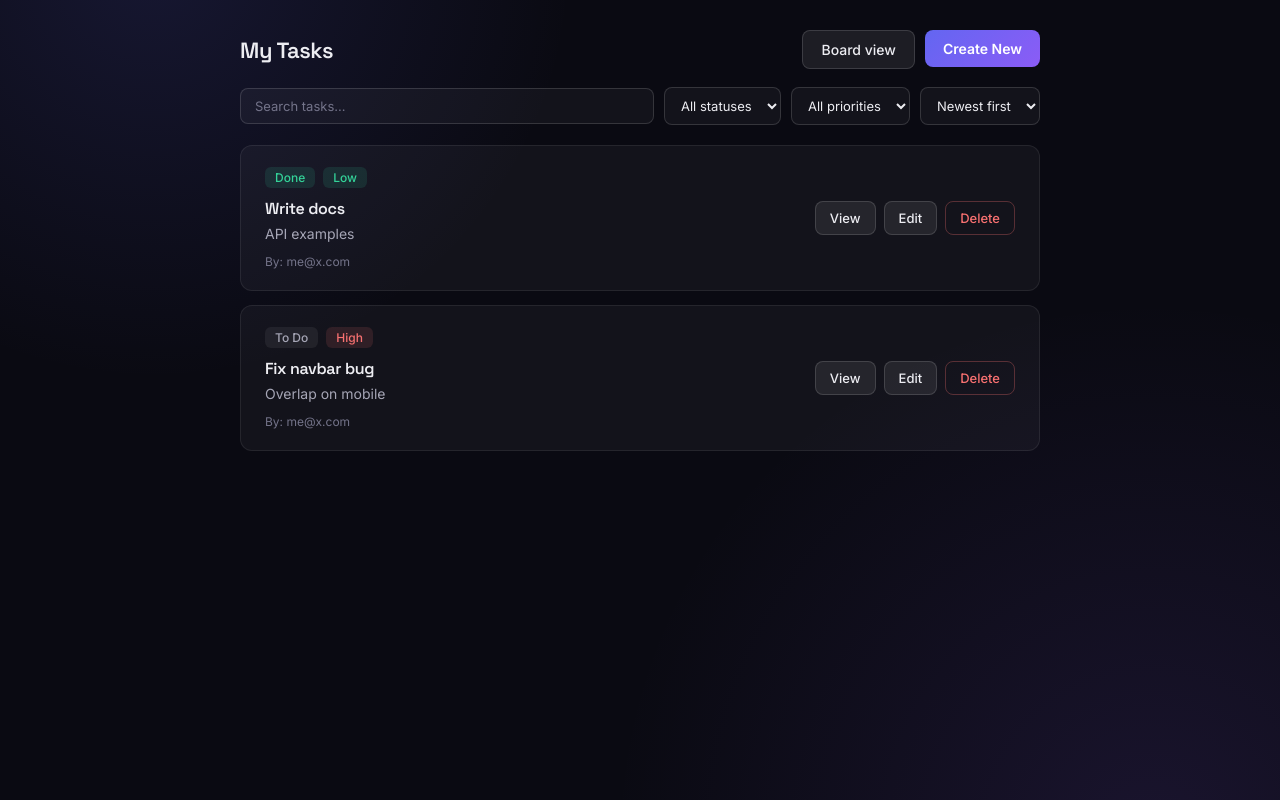
Test: AllItems › tells the user when no task matches the filters
Check: the heading "Fix navbar bug" is shown, box [265,358,386,379]
Type "zzz-no-match" into the field with placeholder "Search tasks..." at (447, 106), box [240,88,654,124]
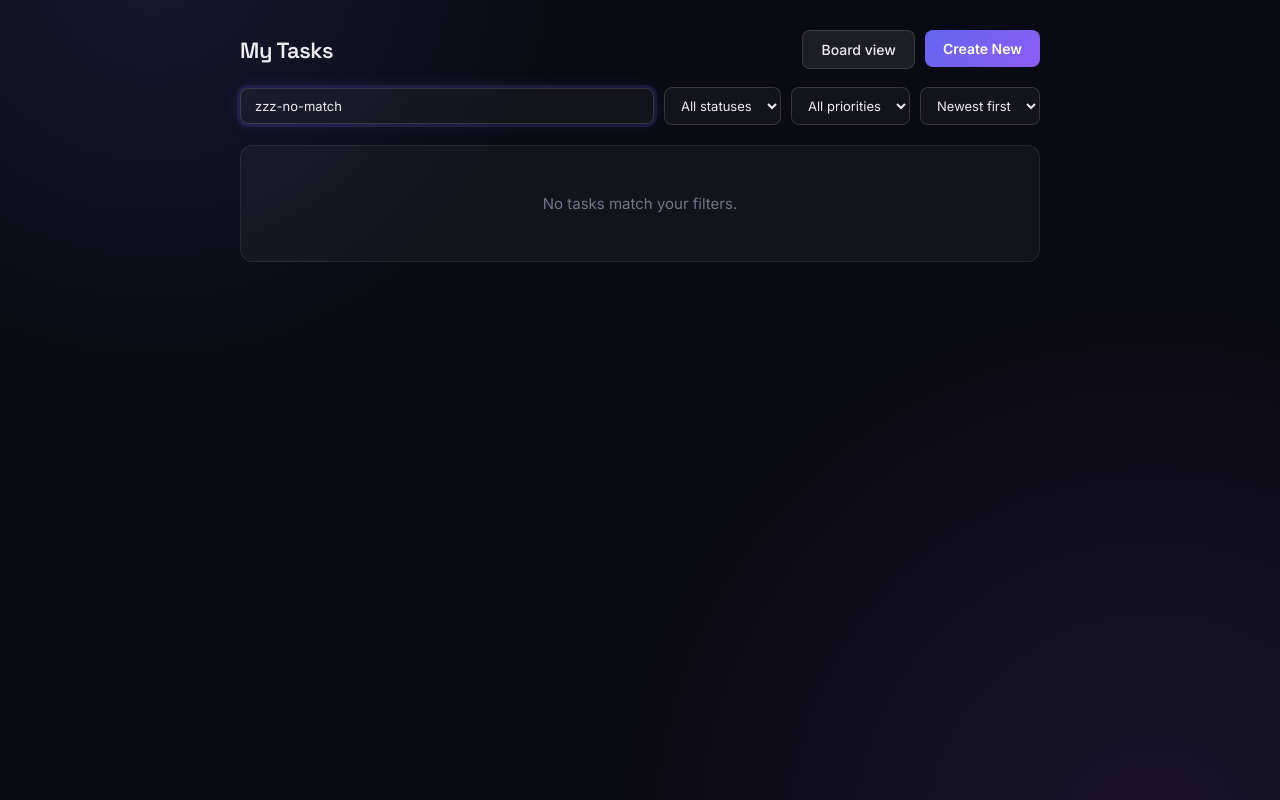
Check: the text "No tasks match your filters." is shown, box [543,194,737,213]
